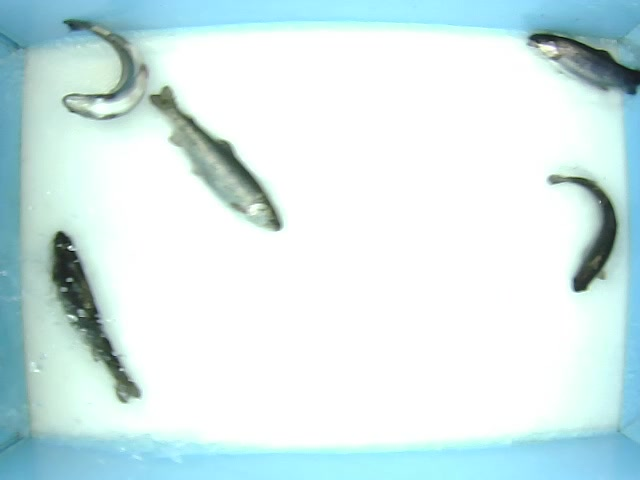fish: (144, 81, 287, 240), (38, 236, 155, 414), (519, 156, 623, 312), (59, 18, 152, 123), (517, 33, 640, 107)
